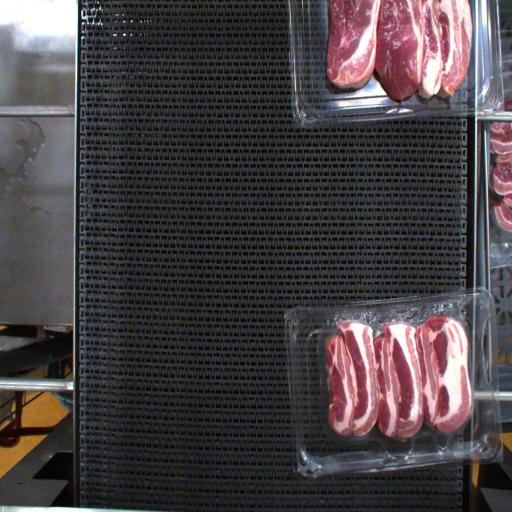unsealed: (316, 302, 478, 393)
